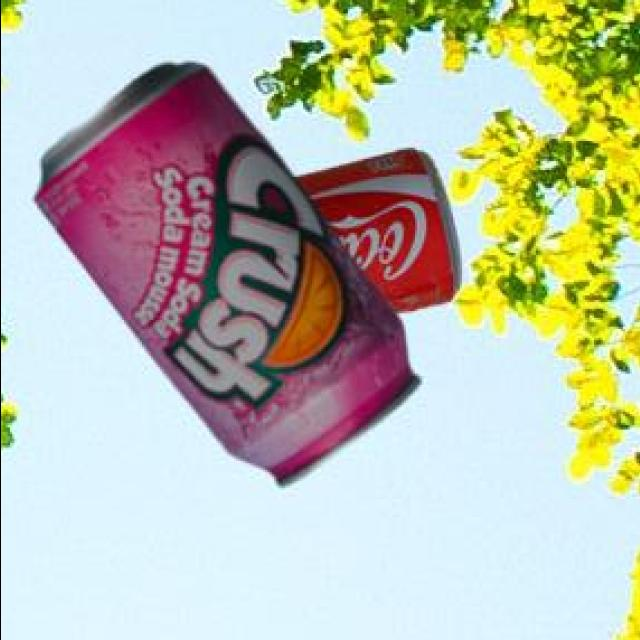logam: (30, 66, 415, 489), (290, 153, 458, 317)
